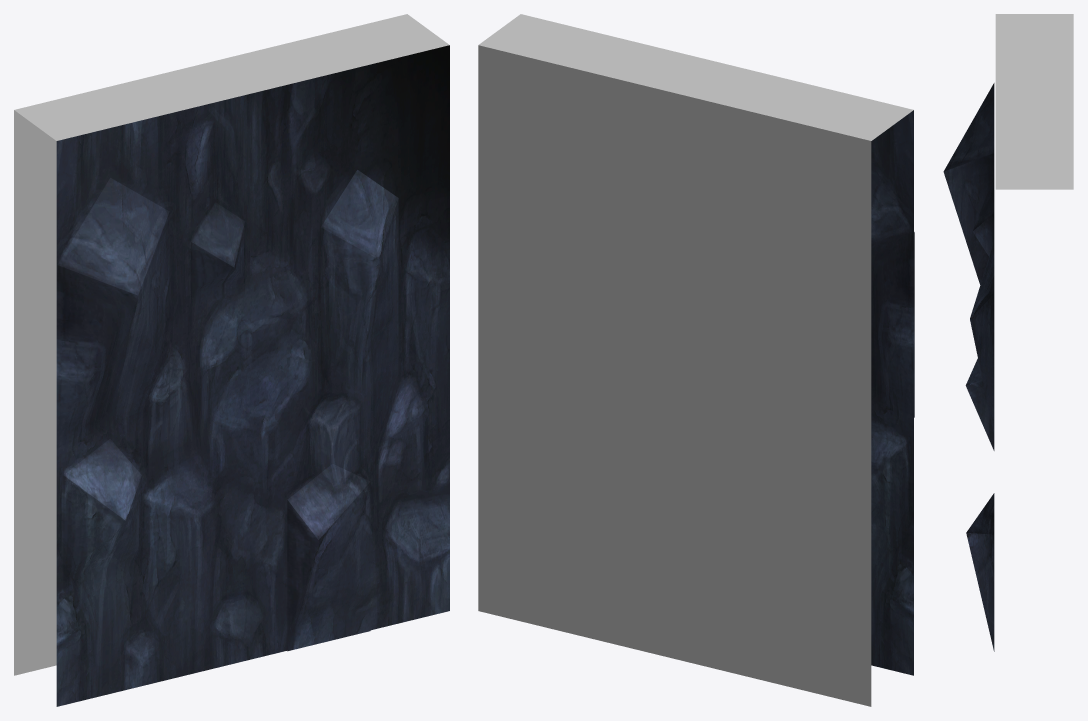
File: mine_fade_transition_02.fbx
3 renders of one model, left to right at view 1: azimuth 30°, elevation 25°; view 2: azimuth 150°, elevation 25°; view 3: azimuth 270°, elevation 25°, orthographic. The views are drawn at different scales.
Visible parts, largest first — view 1: mine_fade_transition_02-0; view 2: mine_fade_transition_02-0; view 3: mine_fade_transition_02-0.
Part boxes in pixels (x1,y1,x2,y2): mine_fade_transition_02-0: [14, 14, 449, 706]; mine_fade_transition_02-0: [478, 14, 914, 706]; mine_fade_transition_02-0: [943, 14, 1073, 651].
Size of the model in its own units: 4 by 5.5 by 1.25.
